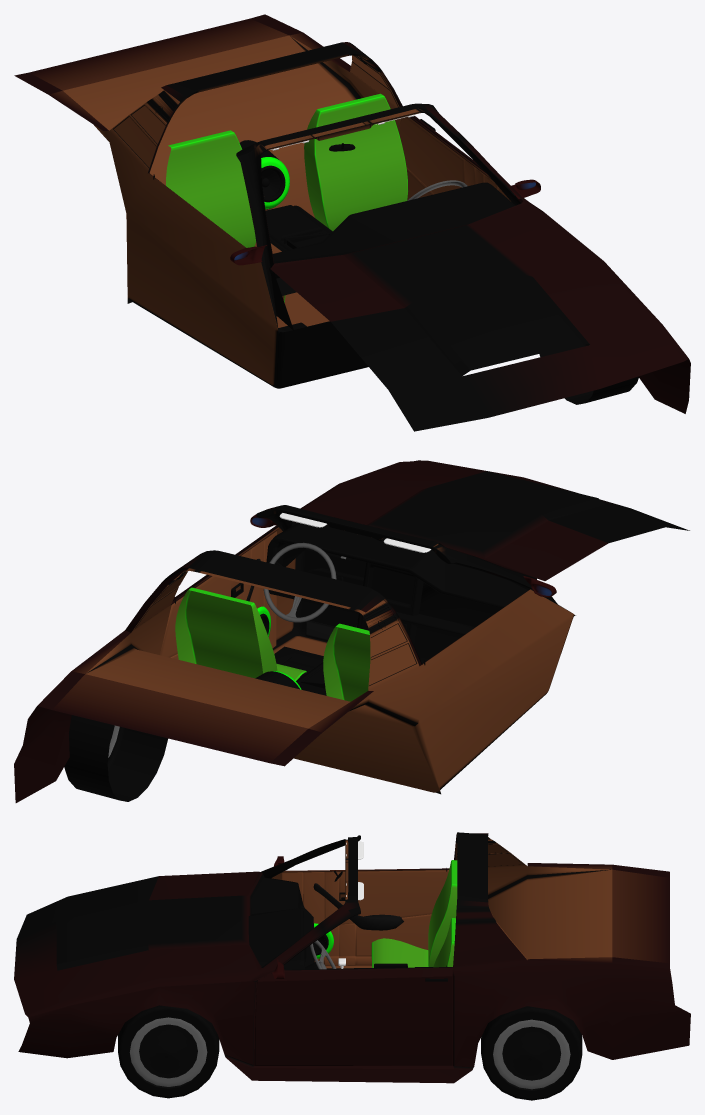
File: CarGroup 2.fbx
3 renders of one model, top to bottom at view 1: azimuth 30°, elevation 25°; view 2: azimuth 150°, elevation 25°; view 3: azimuth 270°, elevation 25°, orthographic. The views are drawn at different scales.
Visible parts, largest first — view 1: body, interior, frontWheel; view 2: body, interior, rearWheel, steeringWheel; view 3: body, interior, rearWheel, frontWheel.
Boxes of the visible parts, box(x1,y1,x2,y2) form: body: box(14, 14, 690, 431); interior: box(150, 93, 540, 330); frontWheel: box(539, 343, 638, 404); body: box(14, 460, 689, 802); interior: box(160, 514, 557, 701); rearWheel: box(64, 715, 168, 801); steeringWheel: box(263, 542, 336, 622); body: box(14, 832, 690, 1083); interior: box(248, 856, 457, 979); rearWheel: box(481, 1006, 582, 1100); frontWheel: box(118, 1005, 219, 1098).
Bounding box in the file's own units: 202 × 139 × 479.
